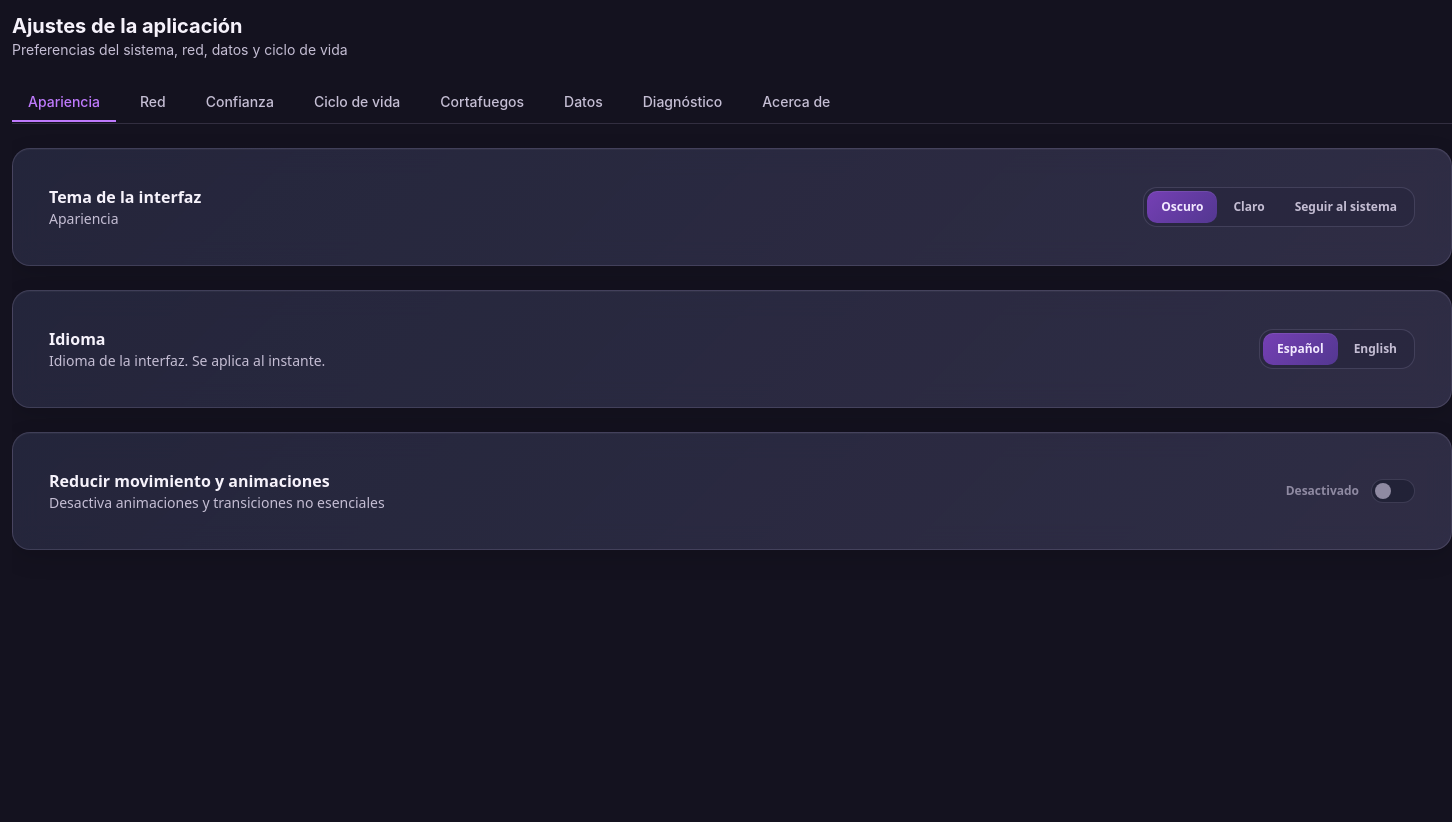
Scenario: Ajustes: los controles existen, indican su estado y funcionan › Apariencia: cambiar el idioma traduce la pantalla al instante y se guarda
The width and height of the screenshot is (1452, 822).
Expected: the heading "Ajustes de la aplicación" is shown, [12, 14, 242, 38]
Click the radio button labelled "English" at (1375, 349), box [1340, 333, 1411, 365]
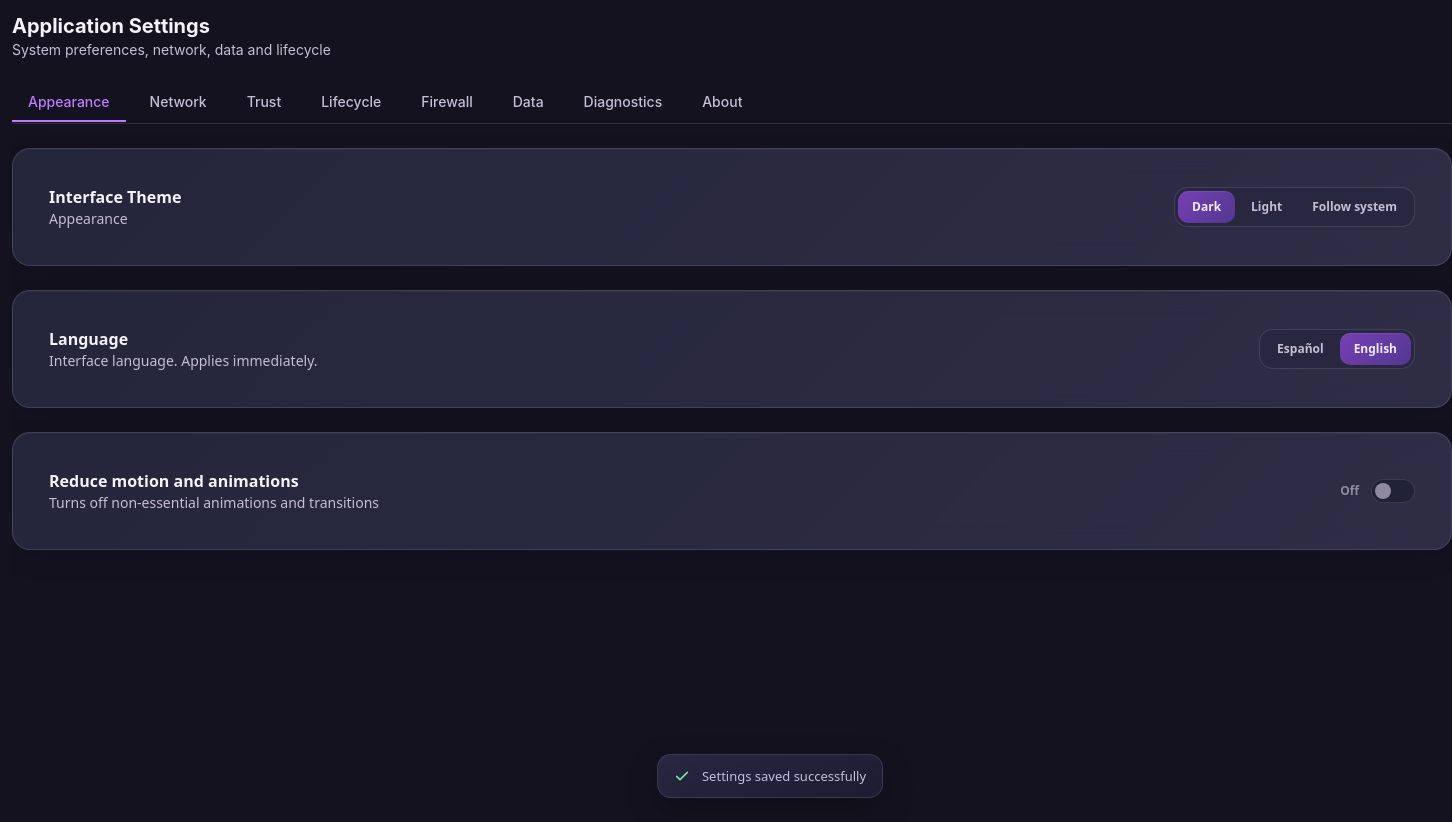
Now the heading "Application Settings" is shown, box [12, 14, 210, 38]
